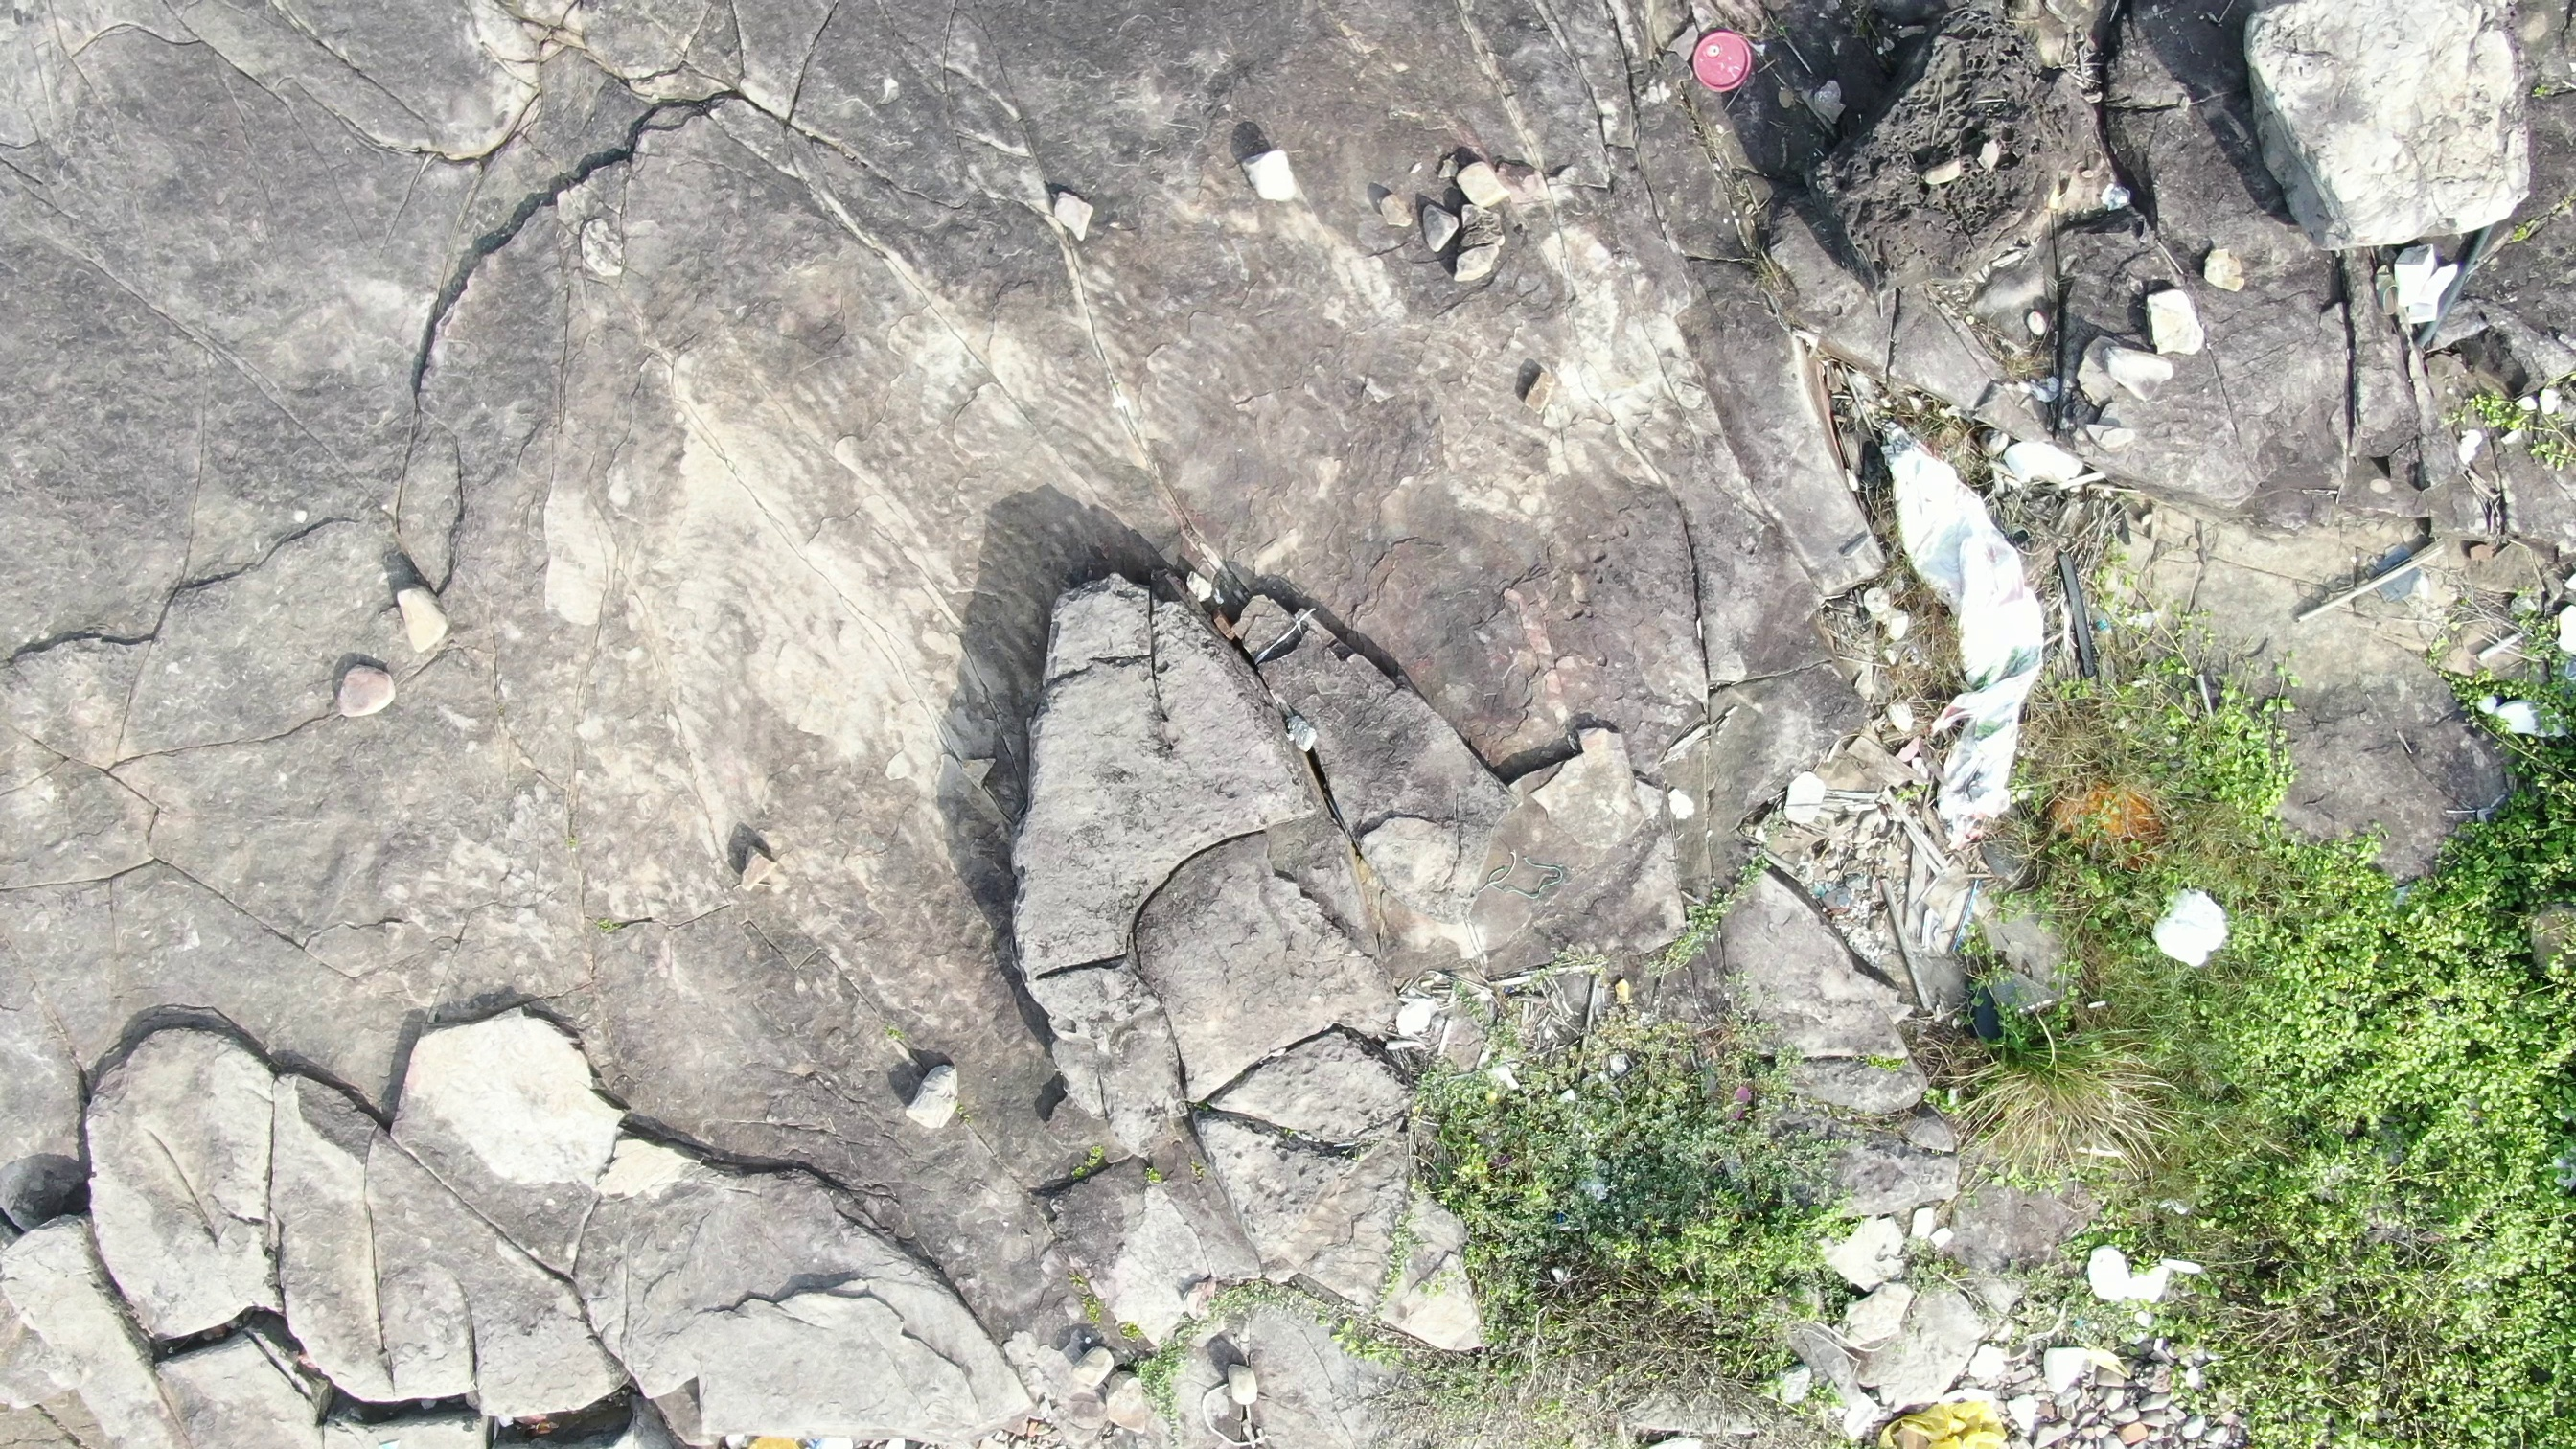garbage: (1882, 410, 2056, 862), (2066, 1238, 2212, 1313), (1879, 1387, 2035, 1449), (2151, 883, 2243, 973), (1688, 14, 1764, 106)
